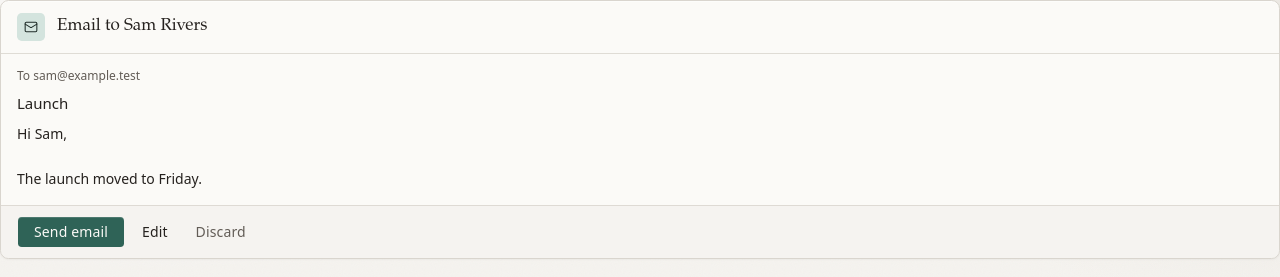
Test: ApprovalCard › swaps the buttons for a status chip once sent
The width and height of the screenshot is (1280, 277).
Step 1. Click the button "Send email" → (71, 232), box [17,216,125,248]
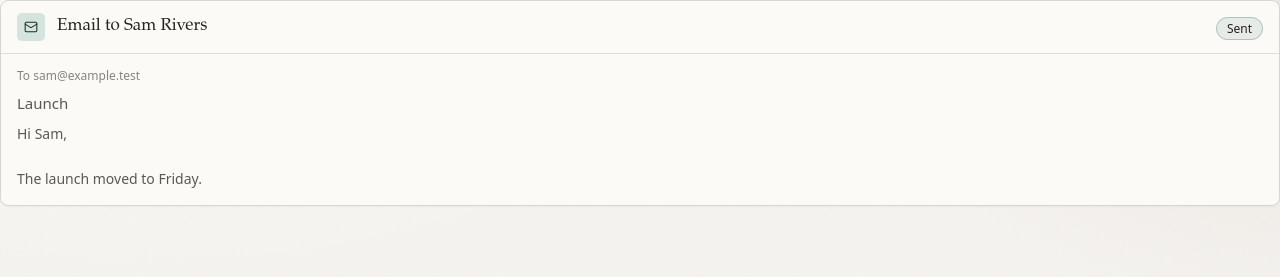
Now the text "Sent" is shown, box [1216,17,1263,40]
Now the button "Send email" is gone
